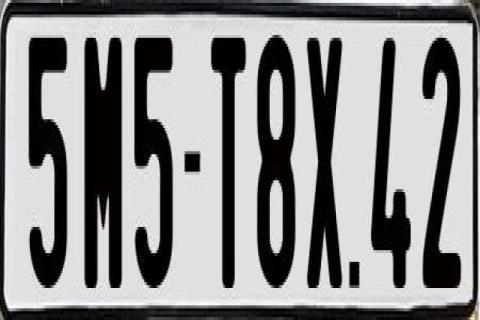0: (371, 32, 414, 300), (422, 32, 465, 288), (133, 32, 172, 300), (27, 38, 66, 294), (255, 35, 292, 288)
M: (81, 38, 123, 291)
T: (208, 32, 242, 288)
X: (306, 32, 348, 285)
